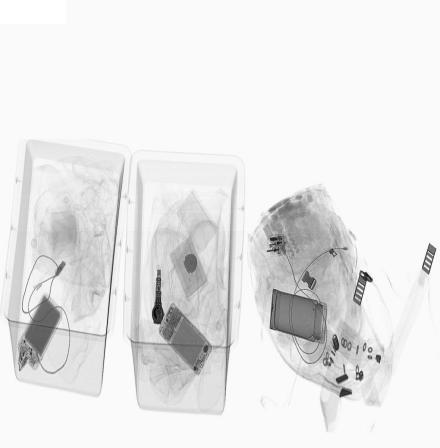Powerbank: (17, 292, 65, 370)
